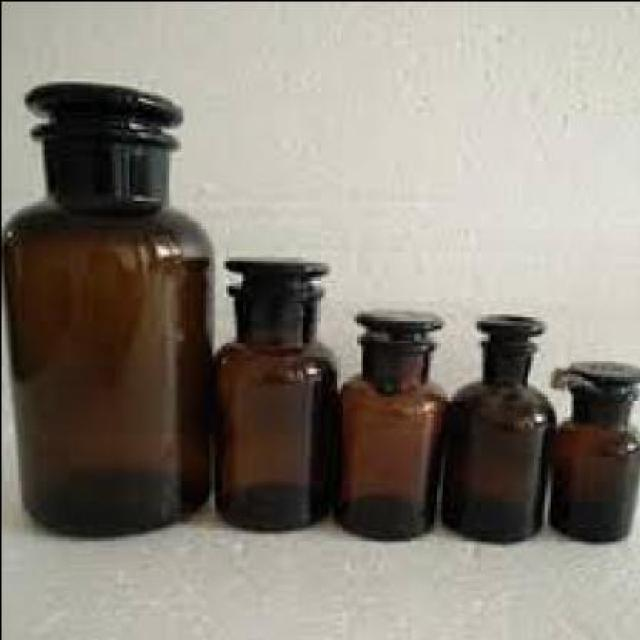glass: (1, 82, 208, 536), (211, 256, 334, 530), (339, 304, 443, 538), (445, 310, 549, 542), (546, 358, 637, 542)
